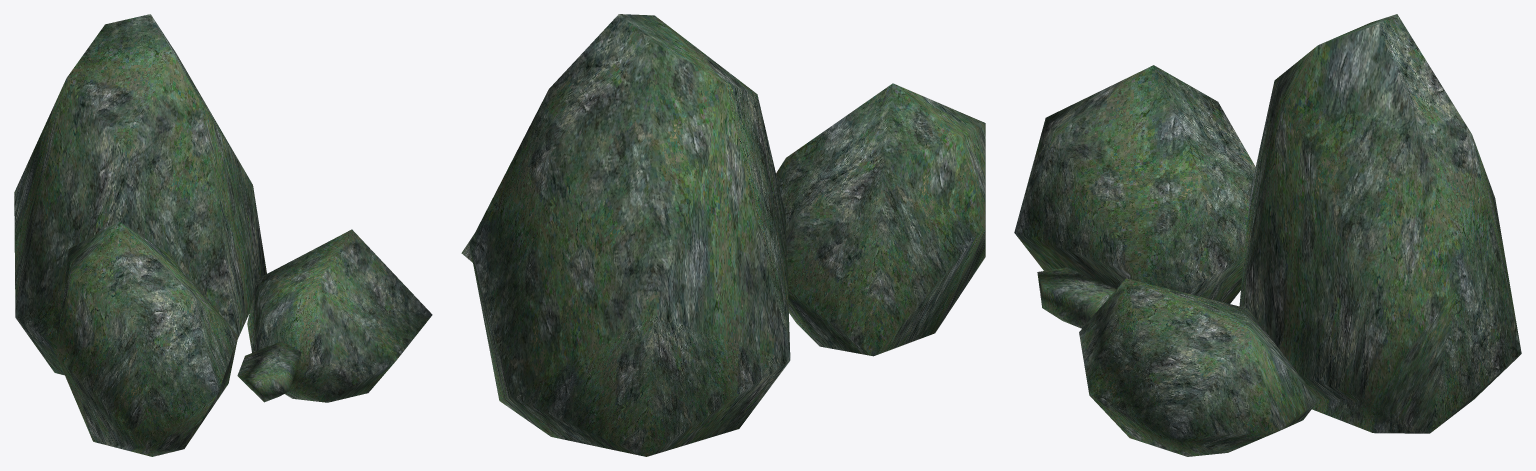
The model's file is rock_mossy_bluebig_l0.fbx.
The picture shows the model from 3 angles, left to right: view 1: azimuth 30°, elevation 25°; view 2: azimuth 150°, elevation 25°; view 3: azimuth 270°, elevation 25°; orthographic projection. The views are drawn at different scales.
Visible parts, largest first — view 1: mesh_node; view 2: mesh_node; view 3: mesh_node.
Boxes of the visible parts, left/top/right/bottom form: mesh_node: left=14, top=14, right=432, bottom=456; mesh_node: left=461, top=14, right=985, bottom=456; mesh_node: left=1014, top=14, right=1521, bottom=456.
Bounding box in the file's own units: 10.53 × 8.55 × 10.62.
1 material, 1 textured.
